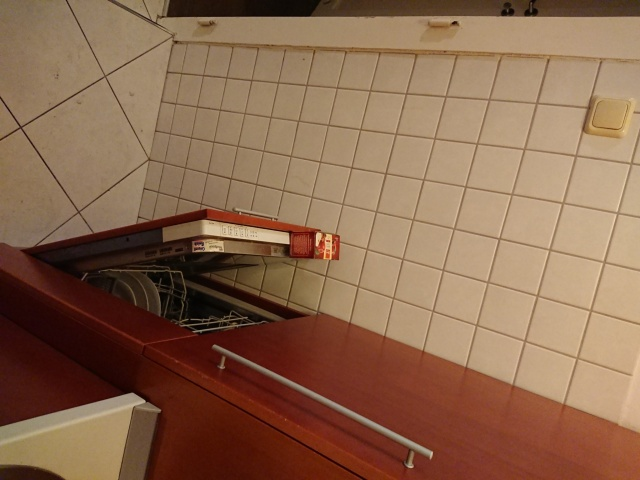Franck Apple Cinnamon Tea 60g: (286, 228, 343, 263)
